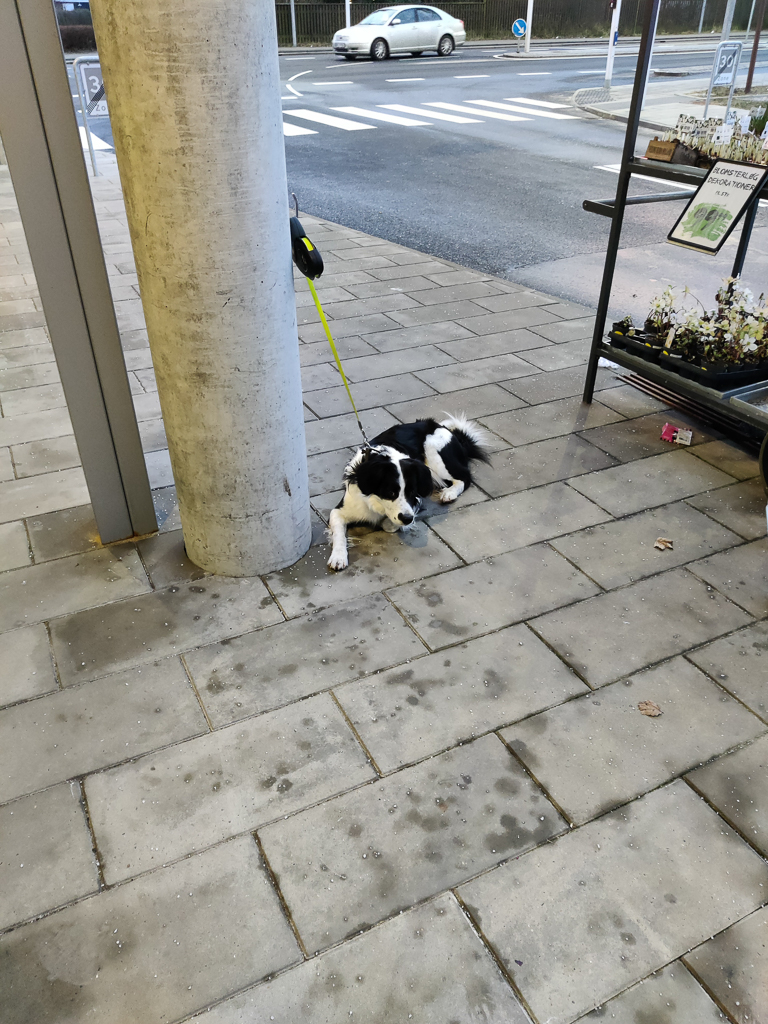Dog: (312, 404, 502, 576)
